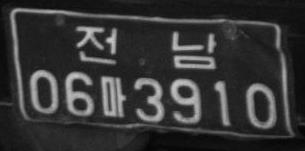0: (244, 81, 279, 130), (28, 67, 60, 116)
1: (209, 78, 240, 128)
3: (133, 75, 167, 124)
6: (63, 69, 96, 119)
9: (169, 76, 203, 126)
마: (99, 74, 127, 118)
전남_D: (74, 21, 218, 71)
